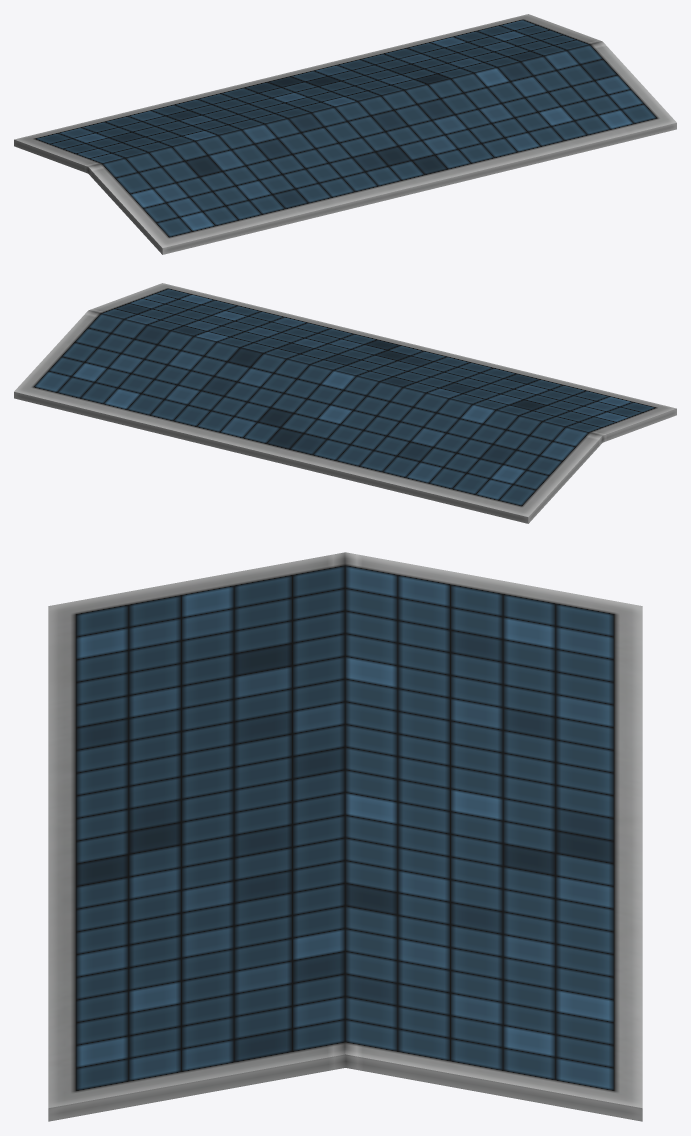
File: octans_solar_basic_srf_1_panel_1.obj
3 views of the same model, one above another, from view 1: azimuth 30°, elevation 25°; view 2: azimuth 150°, elevation 25°; view 3: azimuth 270°, elevation 25° (orthographic). The views are drawn at different scales.
Parts seen in each view (by area): view 1: mesh; view 2: mesh; view 3: mesh.
Part boxes in pixels (x1,y1,x2,y2): mesh: [14, 14, 676, 254]; mesh: [14, 283, 676, 523]; mesh: [48, 552, 642, 1121].
Bounding box in the file's own units: 1 × 0.0625 × 0.5.
1 material, 1 textured.
